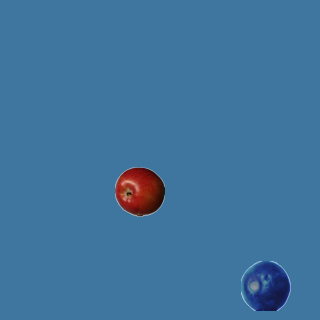Apple Braeburn: (114, 166, 164, 216)
Huckleberry: (240, 260, 290, 310)
